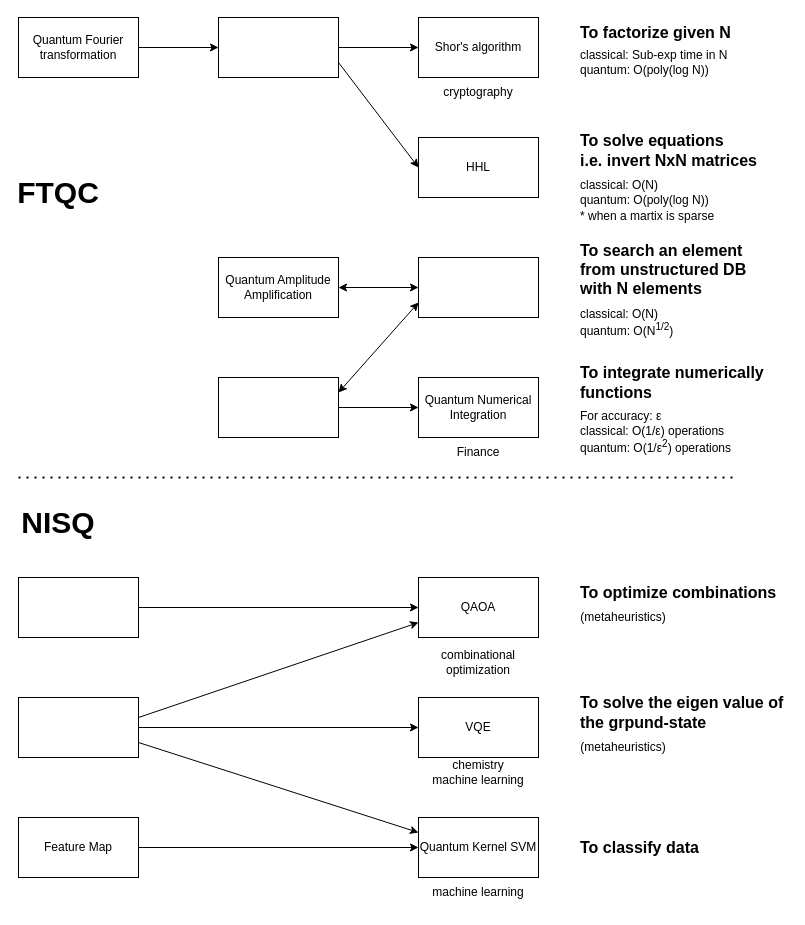
The diagram is 805 pixels wide and 925 high, and some of its shapes have lost their labels. The shapes that lost their labels are listed below. From the top down, each one's centre as x and y in pixels, then its label:
At point (278, 47): "Quantum Phase Estimation".
At point (478, 287): "Grover's algorithm".
At point (278, 407): "Quantum Amplitude Estimation".
At point (78, 607): "Suzuki-Trotter".
At point (78, 727): "Parametrized Quantum Circuit".
